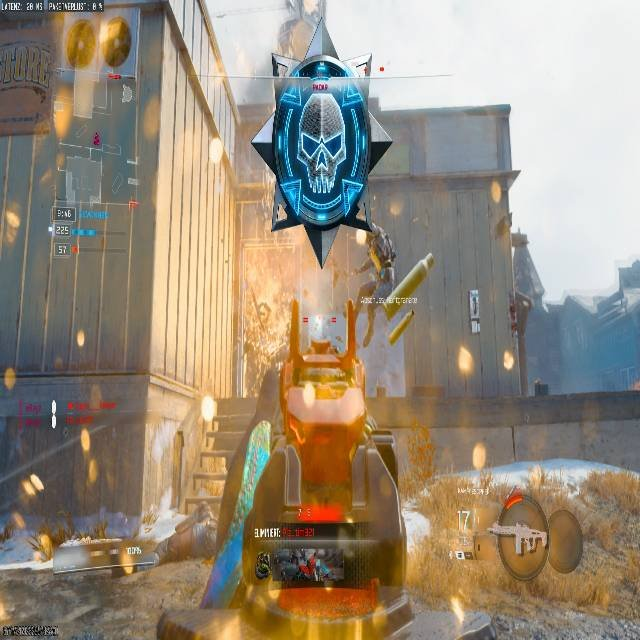head: (250, 53, 382, 227)
